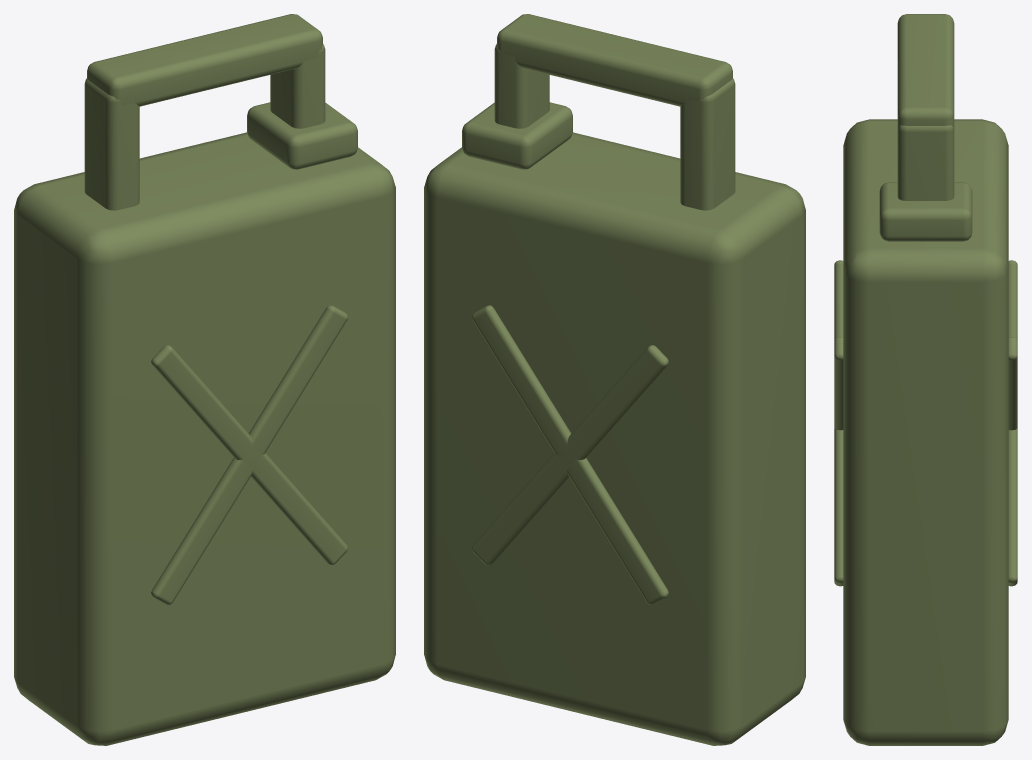
Rendered from FuelCan.fbx.
3 views of the same model, side by side, from view 1: azimuth 30°, elevation 25°; view 2: azimuth 150°, elevation 25°; view 3: azimuth 270°, elevation 25° (orthographic). The views are drawn at different scales.
Parts seen in each view (by area): view 1: CanBody, HandleTop, PressedRib.001, PressedRib, HandleLeft, Cap, HandleRight; view 2: CanBody, HandleTop, PressedRib.003, PressedRib.002, HandleLeft, Cap, HandleRight; view 3: CanBody, HandleTop, Cap, HandleRight, PressedRib, PressedRib.002, PressedRib.001, PressedRib.003.
Part boxes in pixels (box(x1,y1,x2,y2)): CanBody: box(14, 132, 395, 745); HandleTop: box(87, 14, 322, 106); PressedRib.001: box(151, 305, 347, 604); PressedRib: box(151, 345, 347, 565); HandleLeft: box(84, 78, 139, 210); Cap: box(247, 102, 357, 169); HandleRight: box(270, 44, 325, 128); CanBody: box(424, 132, 805, 745); HandleTop: box(497, 14, 732, 106); PressedRib.003: box(472, 305, 668, 604); PressedRib.002: box(472, 345, 668, 565); HandleLeft: box(680, 78, 735, 210); Cap: box(462, 102, 572, 169); HandleRight: box(494, 44, 549, 128); CanBody: box(843, 119, 1008, 745); HandleTop: box(897, 14, 954, 126); Cap: box(879, 182, 972, 241); HandleRight: box(897, 125, 954, 200); PressedRib: box(834, 260, 843, 586); PressedRib.002: box(1008, 260, 1017, 586); PressedRib.001: box(834, 337, 843, 430); PressedRib.003: box(1008, 337, 1017, 430).
Bounding box in the file's own units: 34 × 66.25 × 17.8.
